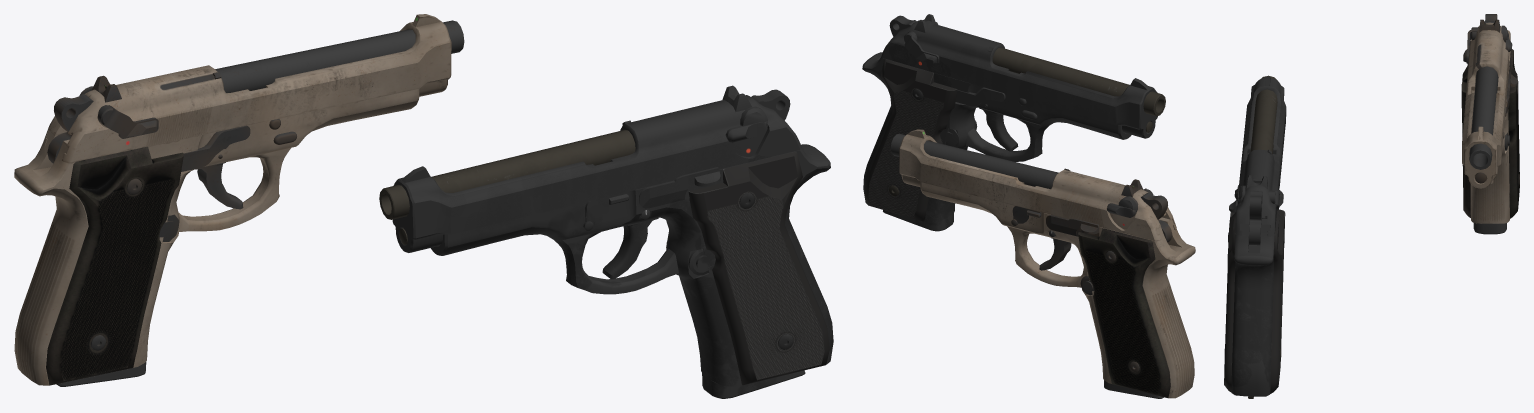
3 views of the same model, side by side, from view 1: azimuth 30°, elevation 25°; view 2: azimuth 150°, elevation 25°; view 3: azimuth 270°, elevation 25° (orthographic). The views are drawn at different scales.
Parts seen in each view (by area): view 1: Cover_lp.002, Cover_lp.001, Handle_lp.002, Handle_lp.001, Frame_lp.001, Frame_lp.002, Barrel_lp.002, Barrel_lp.001, Fuse_2_lp.002, Trigger_lp.002, Bolt_2_lp.001, Shutter_lp.001 (+6 smaller); view 2: Cover_lp.002, Cover_lp.001, Handle_lp.001, Frame_lp.001, Handle_lp.002, Frame_lp.002, Barrel_lp.002, Barrel_lp.001, Fuse_2_lp.001, Trigger_lp.002, Bolt_2_lp.002, Shutter_lp.001 (+7 smaller); view 3: Frame_lp.002, Cover_lp.001, Cover_lp.002, Handle_lp.002, Frame_lp.001, Handle_lp.001, Barrel_lp.001, Barrel_lp.002, Shutter_lp.002, Clip_lp.001.
Part boxes in pixels (box(x1,y1,x2,y2)): Cover_lp.002: box(392, 85, 801, 252); Cover_lp.001: box(43, 14, 451, 162); Handle_lp.002: box(688, 151, 829, 385); Handle_lp.001: box(46, 146, 183, 385); Frame_lp.001: box(14, 89, 419, 385); Frame_lp.002: box(430, 144, 833, 386); Barrel_lp.002: box(379, 130, 635, 219); Barrel_lp.001: box(215, 20, 464, 92); Fuse_2_lp.002: box(639, 167, 720, 208); Trigger_lp.002: box(602, 218, 658, 279); Bolt_2_lp.001: box(181, 125, 250, 171); Shutter_lp.001: box(47, 94, 93, 163); Cover_lp.002: box(881, 14, 1157, 138); Cover_lp.001: box(899, 129, 1176, 240); Handle_lp.001: box(1078, 228, 1170, 397); Frame_lp.001: box(920, 182, 1195, 398); Handle_lp.002: box(865, 59, 957, 221); Frame_lp.002: box(862, 52, 1131, 222); Barrel_lp.002: box(992, 47, 1165, 116); Barrel_lp.001: box(890, 133, 1058, 188); Fuse_2_lp.001: box(1046, 215, 1099, 236); Trigger_lp.002: box(979, 108, 1018, 151); Bolt_2_lp.002: box(955, 87, 1005, 106); Shutter_lp.001: box(1141, 193, 1172, 242); Frame_lp.002: box(1231, 210, 1277, 398); Cover_lp.001: box(1462, 19, 1510, 188); Cover_lp.002: box(1235, 76, 1286, 236); Handle_lp.002: box(1224, 209, 1285, 393); Frame_lp.001: box(1467, 51, 1510, 223); Handle_lp.001: box(1461, 49, 1519, 218); Barrel_lp.001: box(1469, 66, 1498, 169); Barrel_lp.002: box(1250, 75, 1277, 154); Shutter_lp.002: box(1249, 191, 1262, 245); Clip_lp.001: box(1473, 223, 1506, 234).
Bounding box in the file's own units: 0.4695 × 0.2099 × 0.2767.
2 materials, 2 textured.
